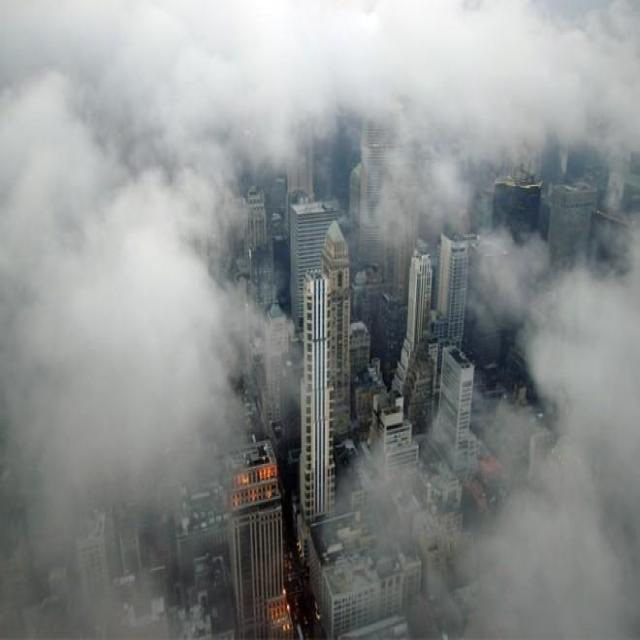fire: (233, 458, 277, 495)
smoke: (46, 238, 236, 466), (467, 502, 586, 630), (547, 278, 639, 423), (372, 137, 473, 237), (472, 233, 545, 337)
